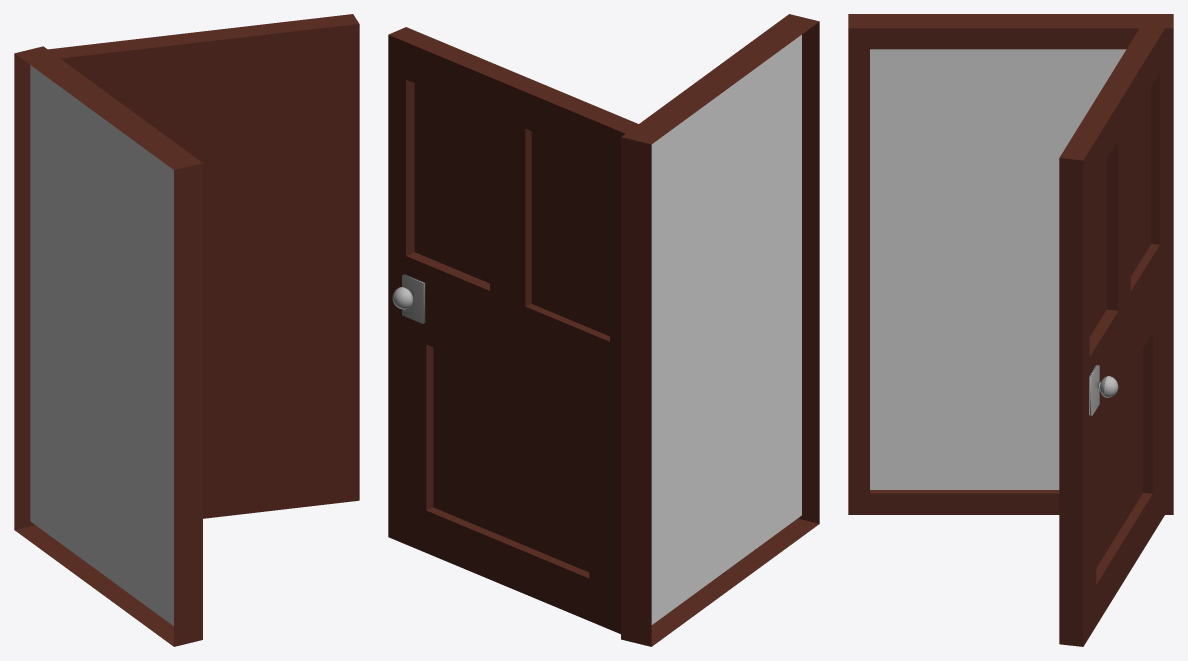
Rendered from door.fbx.
The picture shows the model from 3 angles, left to right: view 1: azimuth 30°, elevation 25°; view 2: azimuth 150°, elevation 25°; view 3: azimuth 270°, elevation 25°; orthographic projection. The views are drawn at different scales.
Parts seen in each view (by area): view 1: Cube, Cube.002, Cube.001; view 2: Cube, Cube.002, Cube.001; view 3: Cube.002, Cube, Cube.001.
Boxes of the visible parts, left/top/right/bottom form: Cube: left=48, top=14, right=359, bottom=518; Cube.002: left=30, top=65, right=173, bottom=625; Cube.001: left=14, top=46, right=202, bottom=646; Cube: left=388, top=27, right=638, bottom=633; Cube.002: left=651, top=35, right=801, bottom=624; Cube.001: left=621, top=14, right=819, bottom=646; Cube.002: left=870, top=49, right=1126, bottom=489; Cube: left=1059, top=28, right=1164, bottom=646; Cube.001: left=848, top=14, right=1173, bottom=514.
Bounding box in the file's own units: 509 × 788 × 478.
